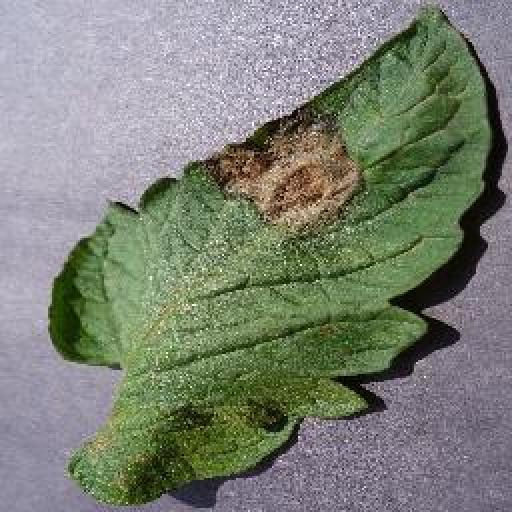Late Blight: (46, 4, 494, 508)
